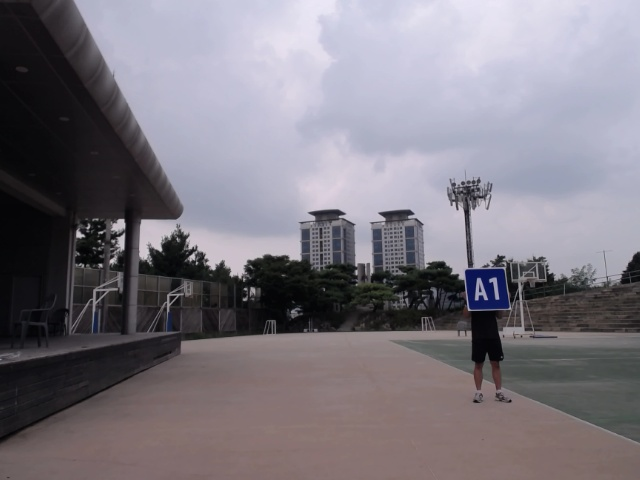delivery_a1: (465, 268, 512, 309)
